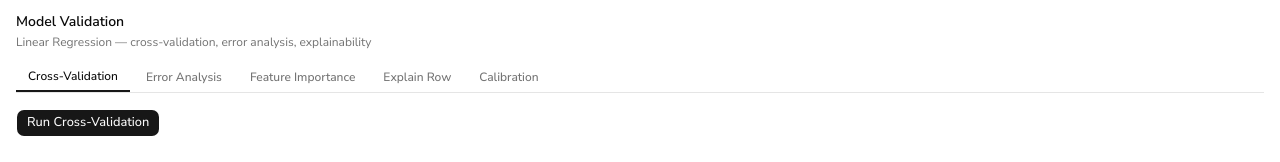
Test: ValidationPanel — explain row tab › shows row index input after switching to Explain Row tab
The image size is (1280, 162).
What coordinates should you click on to do the following:
click the tab "Explain Row"
I would click on:
 (417, 77)
Its box is [371, 62, 463, 92].
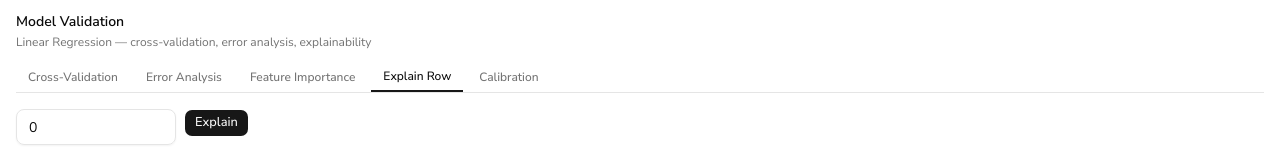
Expected: the number field is shown, [16, 109, 176, 145]
